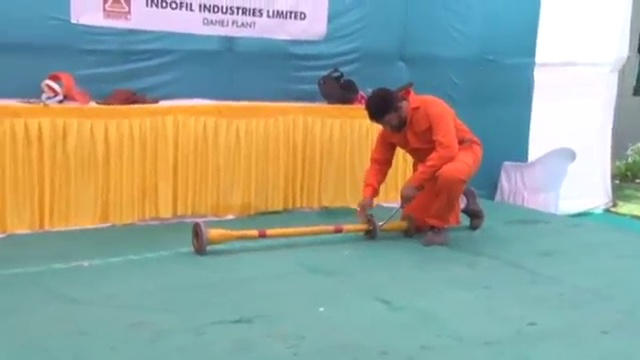helmet_off: (364, 86, 408, 133)
person: (357, 83, 485, 237)
